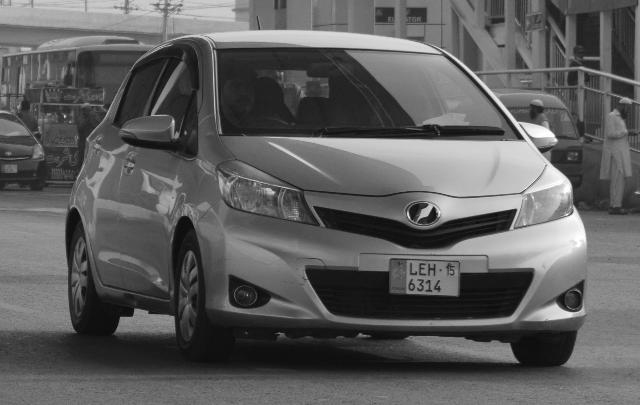Number: (406, 262, 448, 292)
